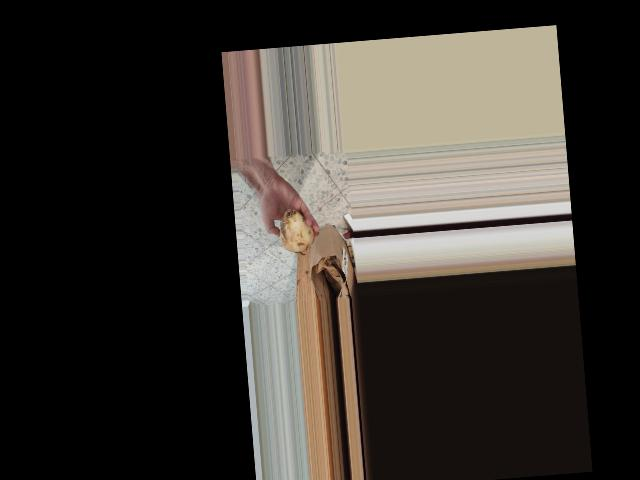onion: (274, 203, 317, 256)
